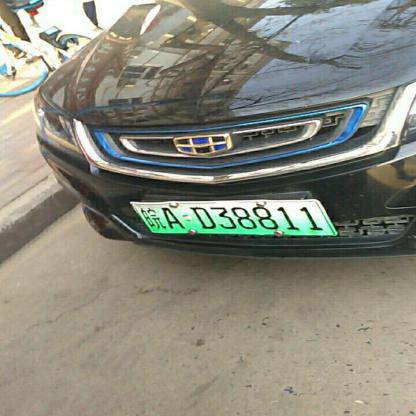lp: (126, 196, 337, 235)
